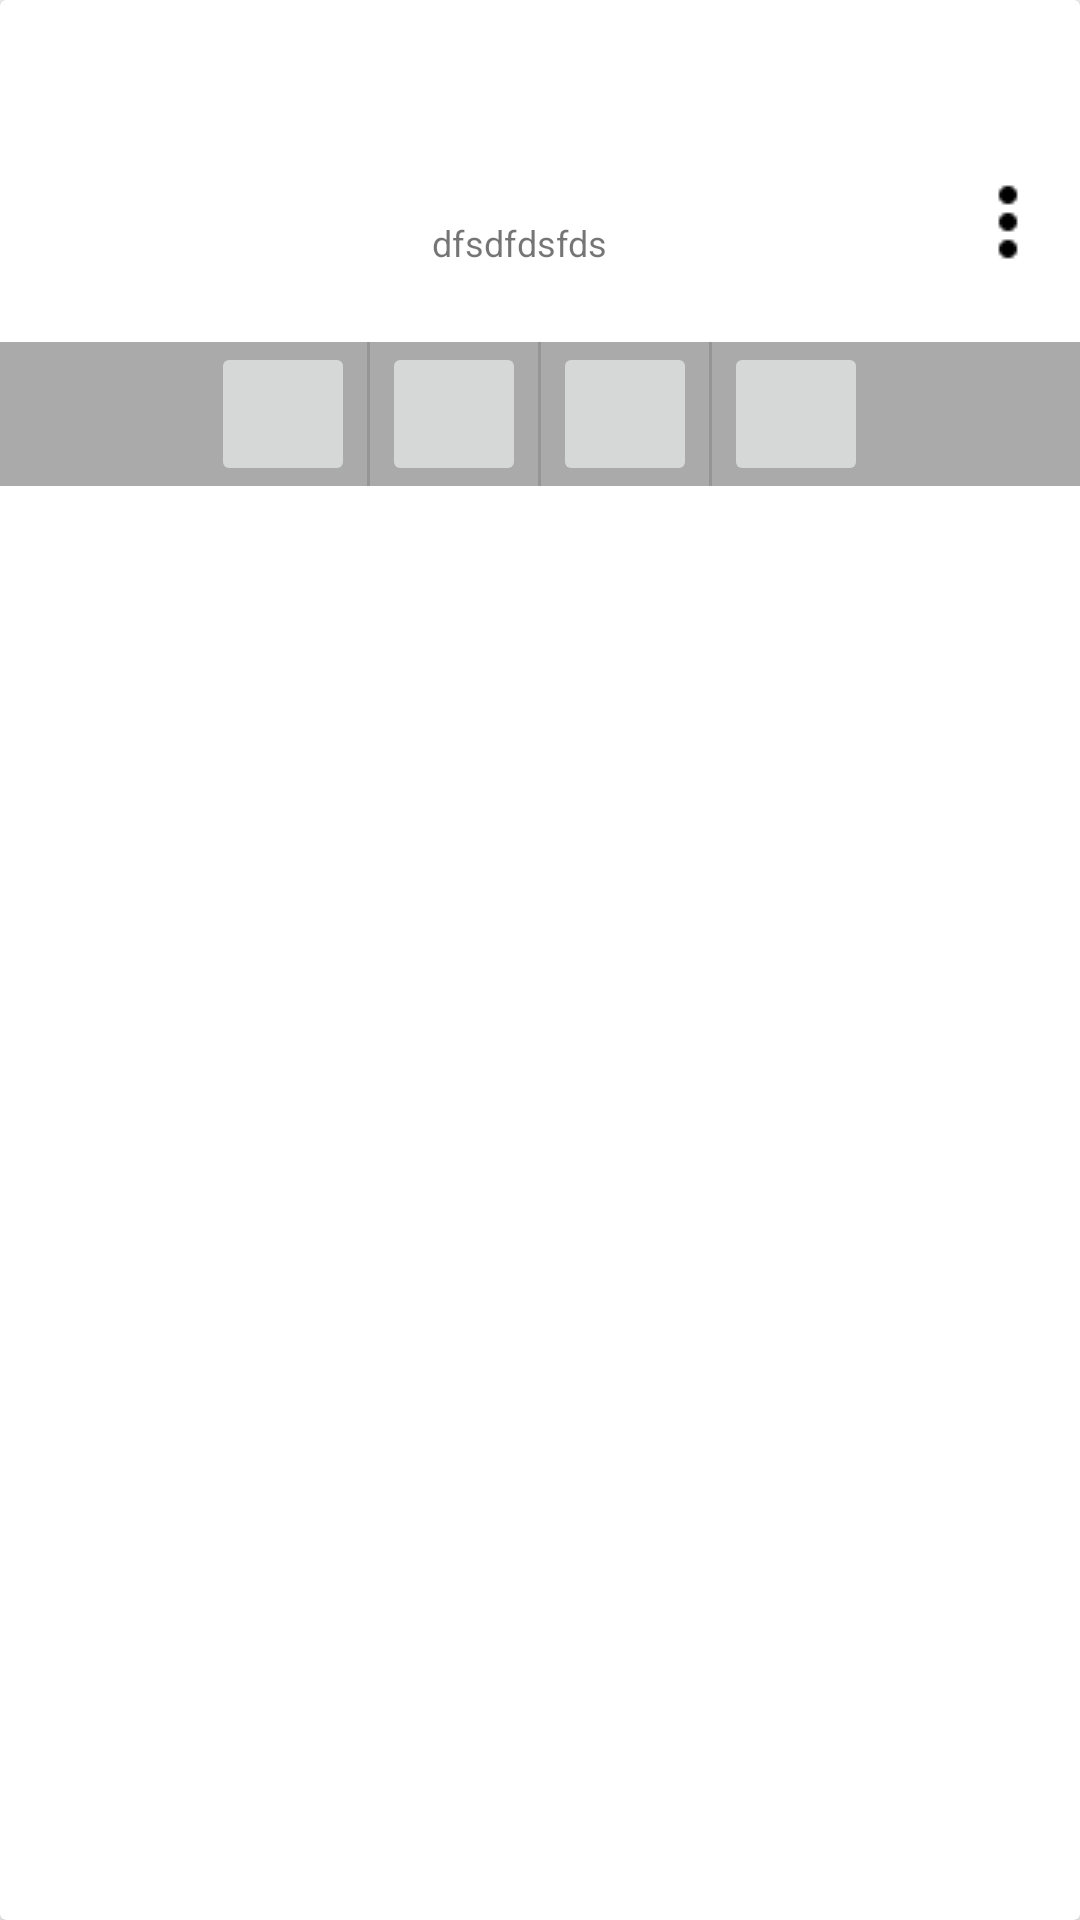

Where to tap for icons on this 1080px×1920px app screen, as point (x, y):
more vert: point (1008, 222)
